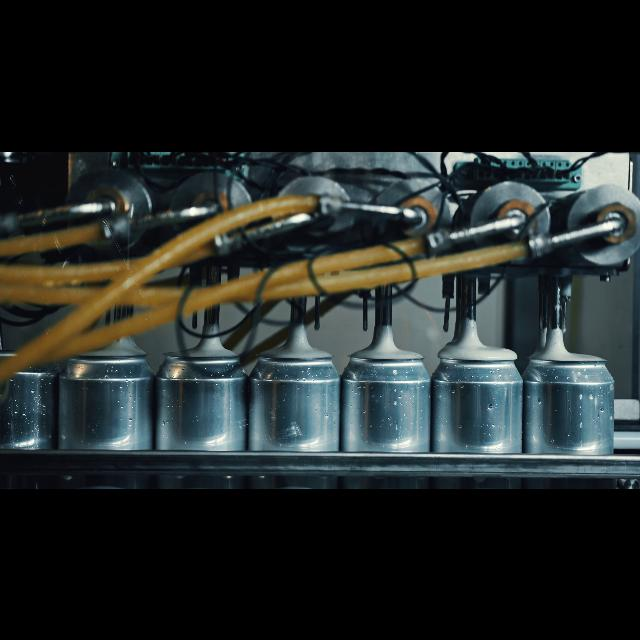empty: (66, 329, 148, 488), (0, 334, 60, 488)
full: (434, 326, 522, 488), (252, 329, 341, 488), (156, 328, 244, 488), (344, 324, 426, 488), (529, 330, 613, 488)
